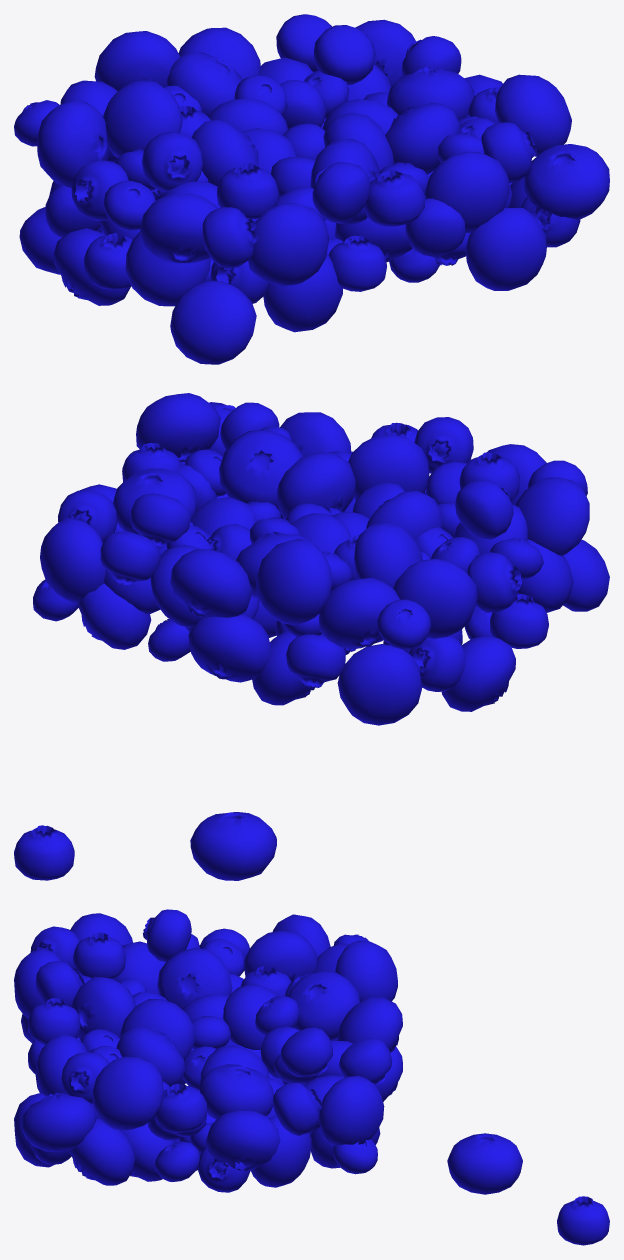
Rendered from Blueberries.fbx.
3 renders of one model, top to bottom at view 1: azimuth 30°, elevation 25°; view 2: azimuth 150°, elevation 25°; view 3: azimuth 270°, elevation 25°, orthographic. The views are drawn at different scales.
Parts seen in each view (by area): view 1: pCube53, pCube98, pCube50, pCube81, pCube71, pCube107, pCube85, pCube74, pCube100, pCube29, pCube87, pCube88 (+48 smaller); view 2: pCube43, pCube87, pCube1, pCube93, pCube88, pCube10.001, pCube107, pCube100, pCube8, pCube74, pCube80, pCube64 (+42 smaller); view 3: pCube74, pCube1, pCube8, pCube106, pCube81, pCube78, pCube60, pCube10, pCube52, pCube87, pCube66, pCube85 (+42 smaller).
Boxes of the visible parts, x1,y1,x2,y2 form: pCube53: (170,280,256,364); pCube98: (248,203,329,286); pCube50: (465,208,546,290); pCube81: (523,144,609,220); pCube71: (425,151,509,233); pCube107: (37,99,109,188); pCube85: (103,79,182,157); pCube74: (495,74,571,156); pCube100: (139,193,217,263); pCube29: (263,253,342,332); pCube87: (94,31,180,90); pCube88: (385,102,460,174); pCube43: (337,644,422,725); pCube87: (256,538,332,625); pCube1: (190,812,276,880); pCube93: (170,549,252,617); pCube88: (219,430,303,509); pCube10.001: (188,614,271,682); pCube107: (393,558,477,638); pCube100: (515,477,589,556); pCube8: (40,517,105,603); pCube74: (136,393,220,462); pCube80: (318,577,399,649); pCube64: (276,452,355,519); pCube74: (92,1056,163,1129); pCube1: (447,1133,522,1194); pCube8: (319,1076,384,1146); pCube106: (205,1110,280,1170); pCube81: (20,1092,96,1152); pCube78: (157,947,232,1008); pCube60: (288,971,359,1040); pCube10: (200,1064,273,1119); pCube52: (68,1118,135,1185); pCube87: (335,940,397,1002); pCube66: (72,976,135,1040); pCube85: (244,930,318,981).
Size of the model in its own units: 247 by 187 by 113.
